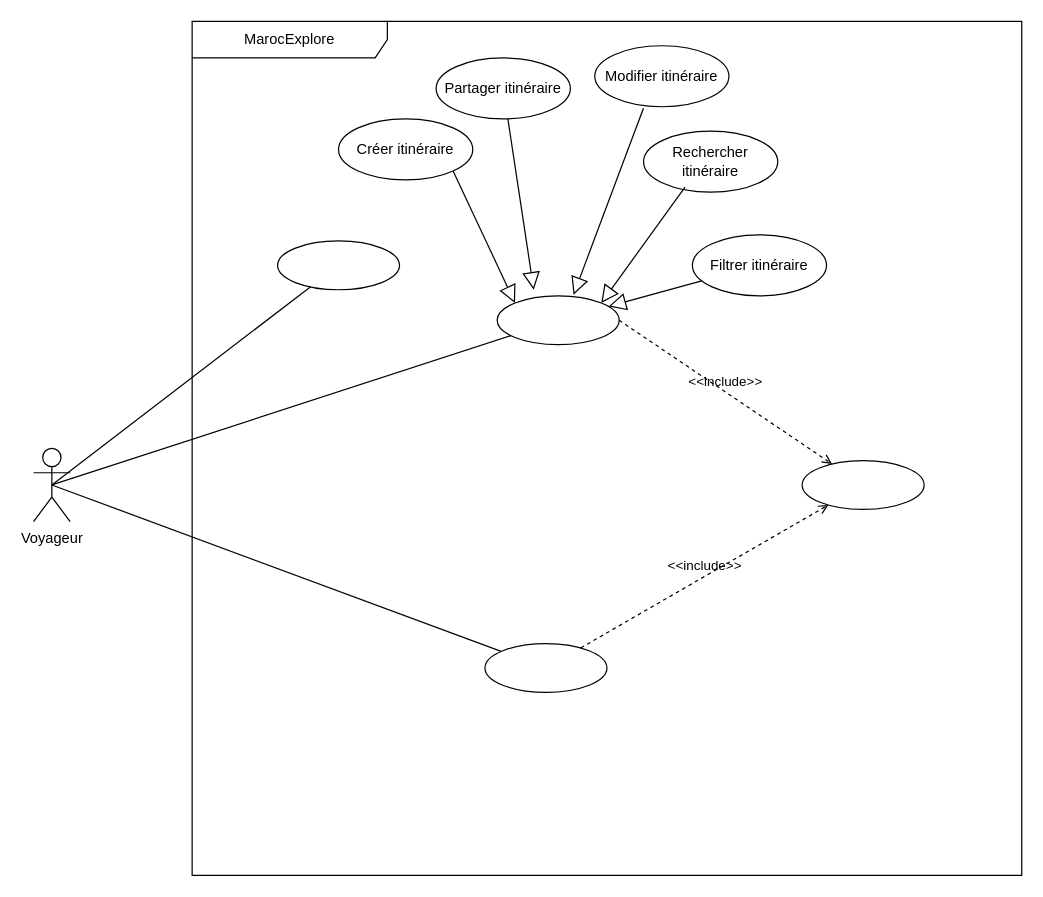
Some shapes in this 1043 by 897 pixel diagram are drawn without their labels. Here are the shapes that lost their labels. From the top down, the centre of each, then its label:
At pixel 338 265: "S'inscrire".
At pixel 557 320: "Gérer itinéraire".
At pixel 862 484: "S'authentifier".
At pixel 545 667: "Ajouter destination".
